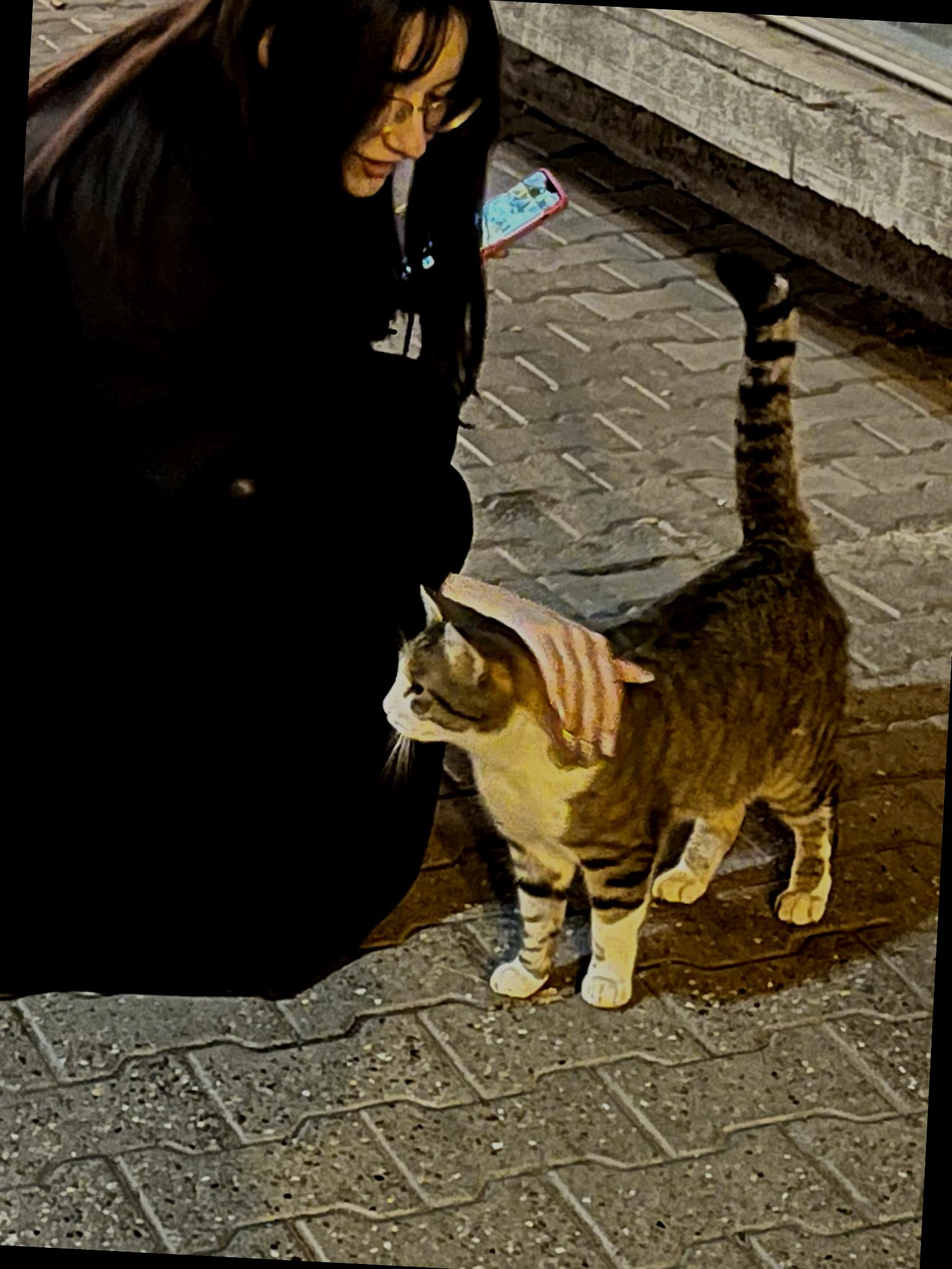macka: (363, 235, 873, 1020)
